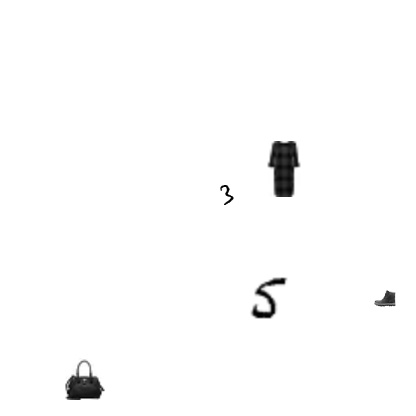3: (213, 180, 241, 208)
5: (239, 270, 295, 326)
Ankle_boot: (374, 287, 396, 309)
Bag: (64, 358, 106, 400)
Dress: (256, 141, 312, 197)
